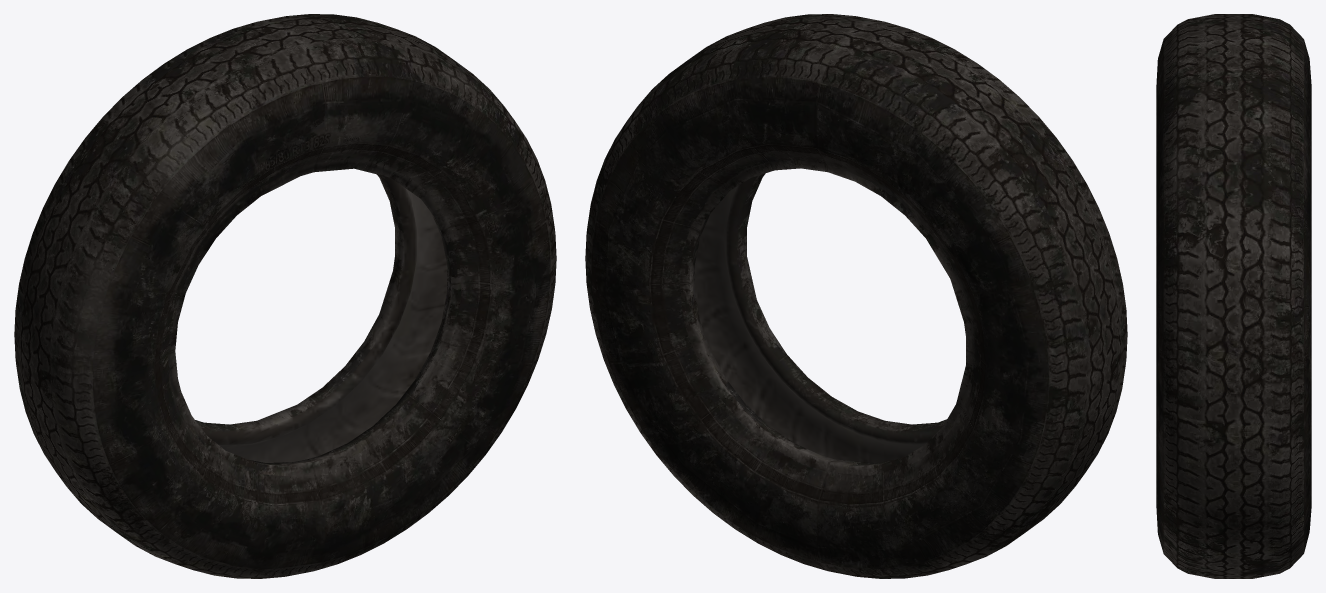
The model's file is ph_old_tyre.glb.
3 views of the same model, side by side, from view 1: azimuth 30°, elevation 25°; view 2: azimuth 150°, elevation 25°; view 3: azimuth 270°, elevation 25° (orthographic). The views are drawn at different scales.
Visible parts, largest first — view 1: old_tyre; view 2: old_tyre; view 3: old_tyre.
Part boxes in pixels (x1,y1,x2,y2): old_tyre: (14, 14, 556, 578); old_tyre: (585, 14, 1127, 578); old_tyre: (1156, 14, 1311, 578).
Size of the model in its own units: 0.6 by 0.6 by 0.165.
Materials: 1 (1 with a texture image).
